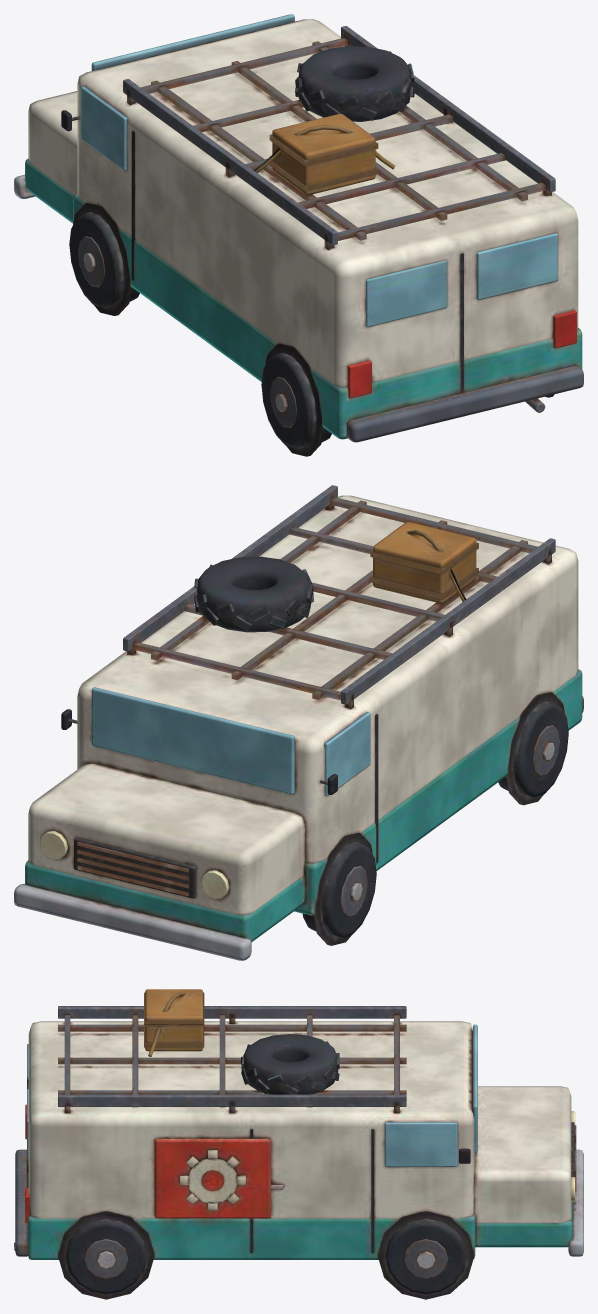
File: van.glb
3 renders of one model, top to bottom at view 1: azimuth 30°, elevation 25°; view 2: azimuth 150°, elevation 25°; view 3: azimuth 270°, elevation 25°, orthographic. The views are drawn at different scales.
Visible parts, largest first — view 1: body; view 2: body; view 3: body.
Boxes of the visible parts, x1,y1,x2,y2 form: body: (14, 14, 583, 456); body: (14, 485, 583, 960); body: (14, 989, 583, 1299).
Size of the model in its own units: 2.69 by 2.66 by 5.88.
Materials: 1 (1 with a texture image).
